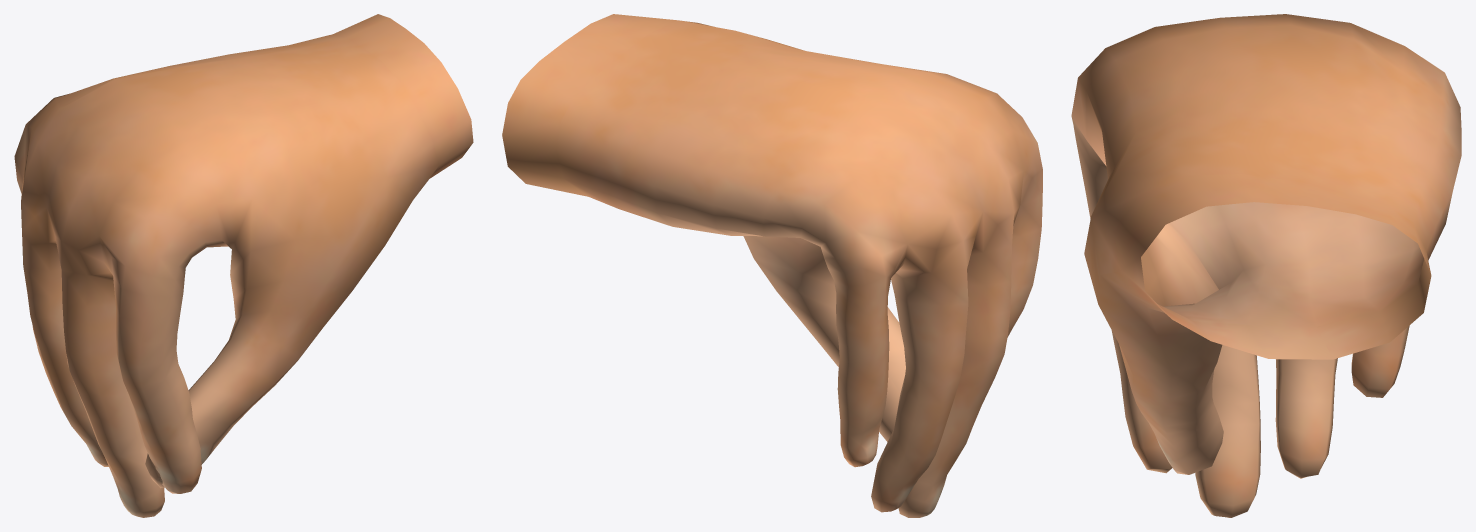
File: H_finger_dip.fbx
The picture shows the model from 3 angles, left to right: view 1: azimuth 30°, elevation 25°; view 2: azimuth 150°, elevation 25°; view 3: azimuth 270°, elevation 25°; orthographic projection. The views are drawn at different scales.
Parts seen in each view (by area): view 1: H_finger_dip; view 2: H_finger_dip; view 3: H_finger_dip.
Part boxes in pixels (x1=…): H_finger_dip: x1=14, y1=14, x2=473, y2=517; H_finger_dip: x1=502, y1=14, x2=1042, y2=517; H_finger_dip: x1=1071, y1=14, x2=1461, y2=517.
Bounding box in the file's own units: 12.31 × 12.16 × 8.6.
Materials: 1 (1 with a texture image).
